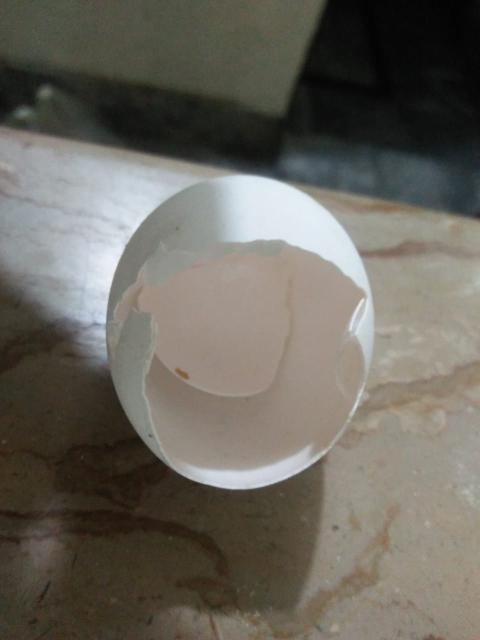Roto: (108, 175, 374, 489)
